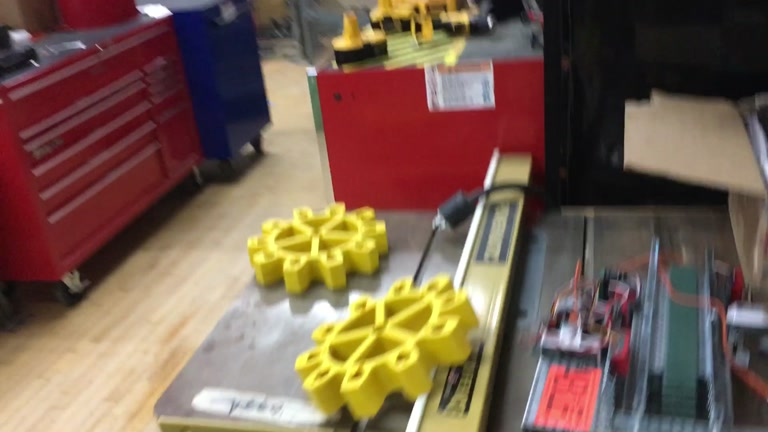gear: (295, 272, 479, 422), (245, 199, 387, 295)
